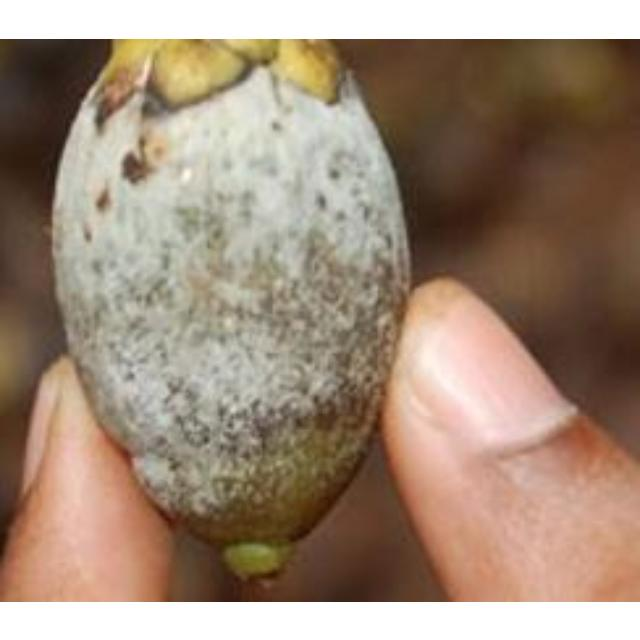damaged: (52, 38, 414, 591)
